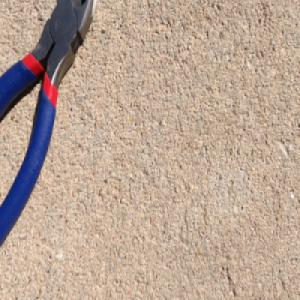Pliers: (0, 0, 97, 252)
